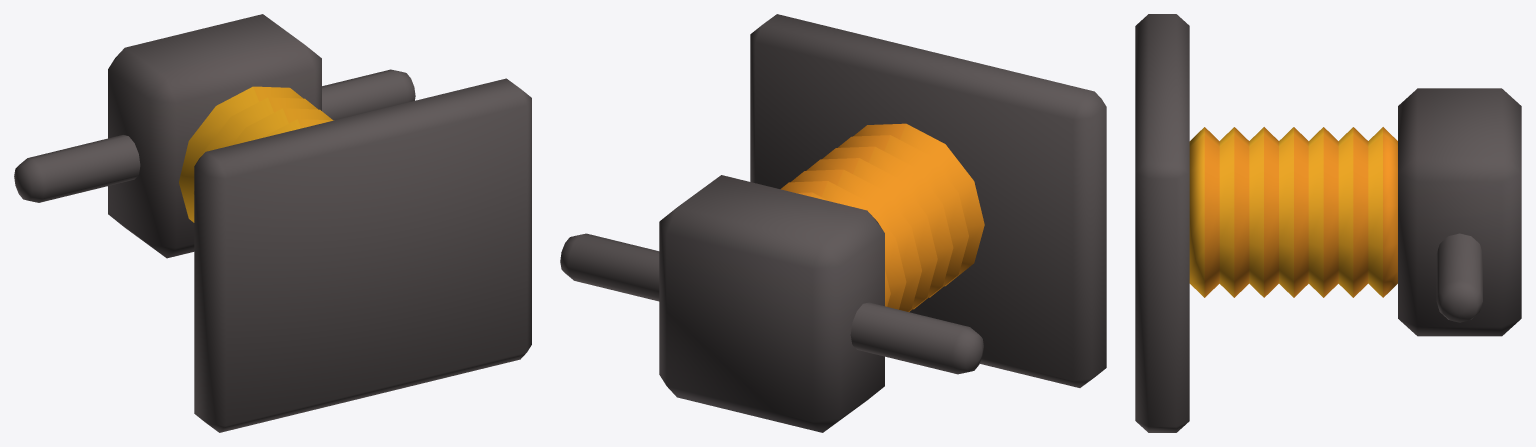
Rendered from smoothie-handbase.fbx.
The picture shows the model from 3 angles, left to right: view 1: azimuth 30°, elevation 25°; view 2: azimuth 150°, elevation 25°; view 3: azimuth 270°, elevation 25°; orthographic projection. The views are drawn at different scales.
Parts seen in each view (by area): view 1: Cube.003; view 2: Cube.003; view 3: Cube.003.
Boxes of the visible parts, left/top/right/bottom form: Cube.003: left=14, top=14, right=531, bottom=432; Cube.003: left=560, top=14, right=1106, bottom=432; Cube.003: left=1135, top=14, right=1521, bottom=432.
Size of the model in its own units: 162 by 107 by 138.
